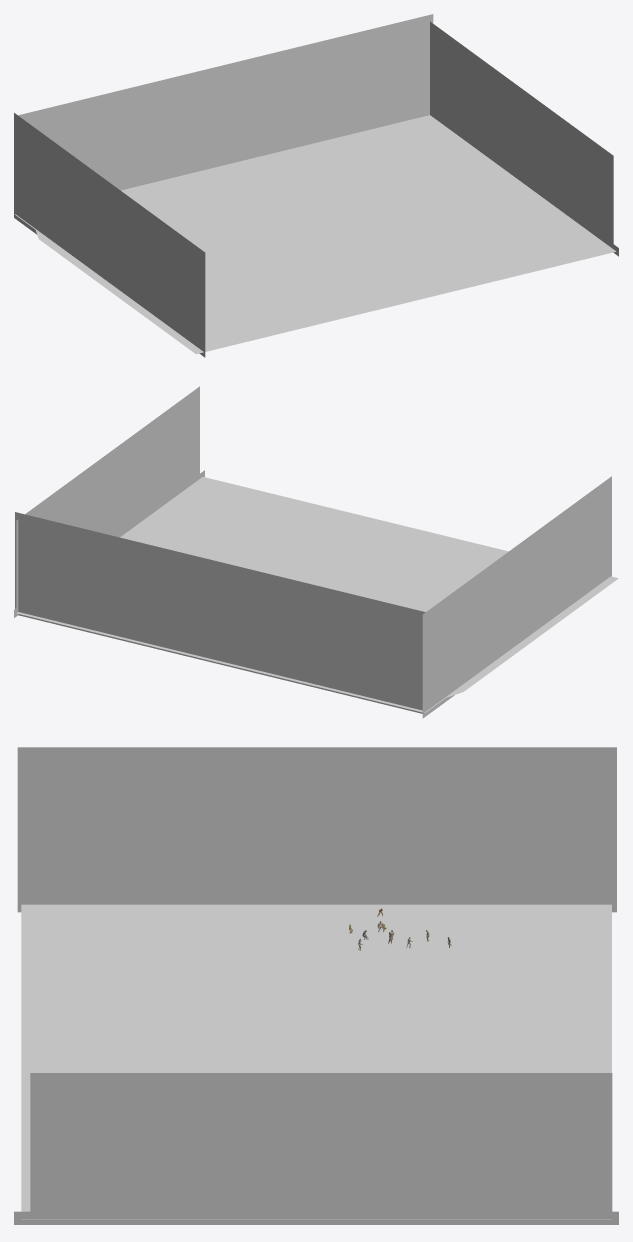
The model's file is nyt_mckennie__model__assets_world-cup-2022-usa-england-6.glb.
3 views of the same model, one above another, from view 1: azimuth 30°, elevation 25°; view 2: azimuth 150°, elevation 25°; view 3: azimuth 270°, elevation 25° (orthographic). The views are drawn at different scales.
Visible parts, largest first — view 1: projection_plane; view 2: projection_plane; view 3: projection_plane.
Part boxes in pixels (box(x1,y1,x2,y2)): projection_plane: box(14, 14, 618, 357); projection_plane: box(14, 386, 618, 718); projection_plane: box(14, 747, 618, 1224).
Bounding box in the file's own units: 6.95 × 1.65 × 5.49.
Materials: 14 (2 with a texture image).
